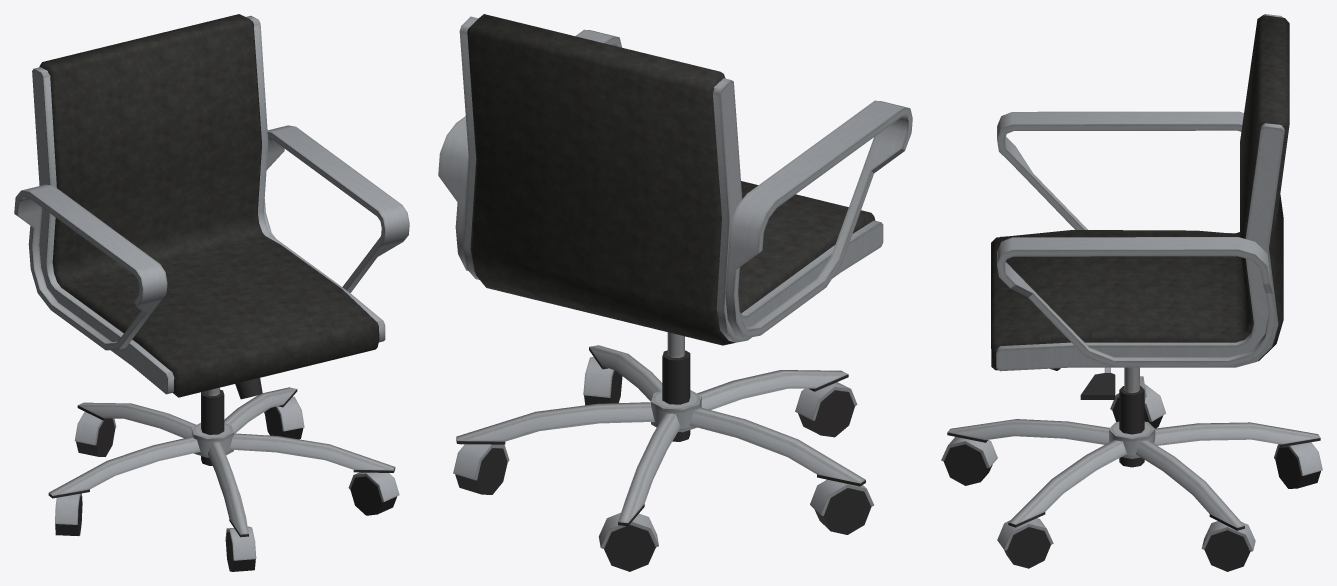
The model's file is office_chair_modern-opt.glb.
3 renders of one model, left to right at view 1: azimuth 30°, elevation 25°; view 2: azimuth 150°, elevation 25°; view 3: azimuth 270°, elevation 25°, orthographic. The views are drawn at different scales.
Parts seen in each view (by area): view 1: OfficeChair_Modern_OfficeChair_Modern_0; view 2: OfficeChair_Modern_OfficeChair_Modern_0; view 3: OfficeChair_Modern_OfficeChair_Modern_0.
Boxes of the visible parts, x1=… form: OfficeChair_Modern_OfficeChair_Modern_0: x1=14, y1=14, x2=409, y2=571; OfficeChair_Modern_OfficeChair_Modern_0: x1=438, y1=14, x2=912, y2=571; OfficeChair_Modern_OfficeChair_Modern_0: x1=941, y1=14, x2=1322, y2=571.
Bounding box in the file's own units: 0.7204 × 0.9662 × 0.7597.
1 material, 1 textured.
